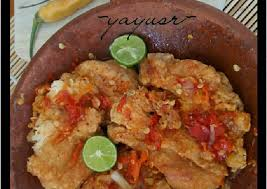ayam_geprek: (33, 54, 240, 186)
